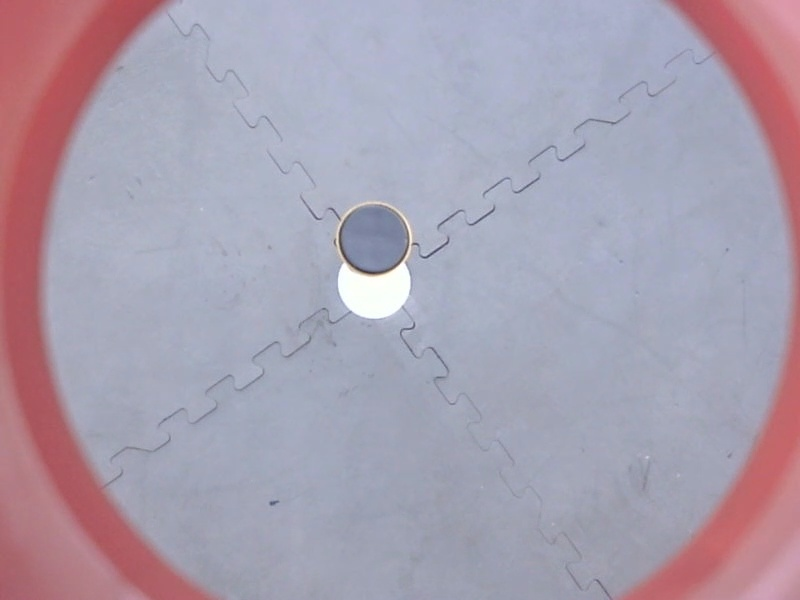tip: (332, 198, 416, 280)
